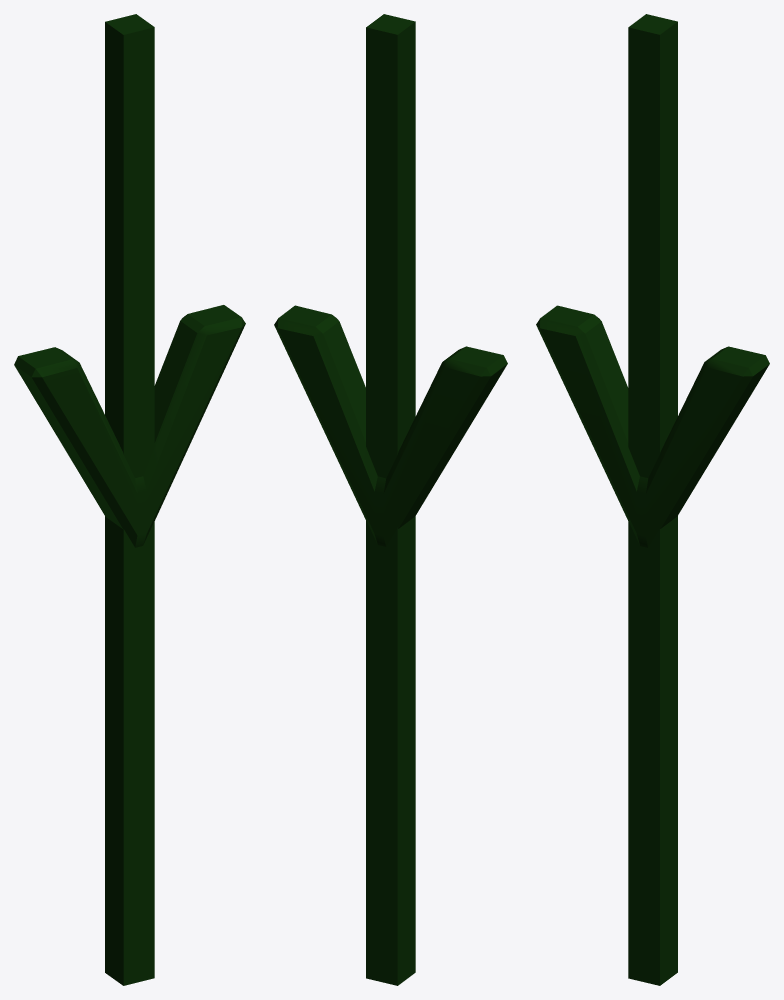
The model's file is Gate_Peice_Down.fbx.
3 renders of one model, left to right at view 1: azimuth 30°, elevation 25°; view 2: azimuth 150°, elevation 25°; view 3: azimuth 330°, elevation 25°, orthographic.
Visible parts, largest first — view 1: polySurface330; view 2: polySurface330; view 3: polySurface330.
Boxes of the visible parts, <box> form: polySurface330: <box>14,14,245,985</box>; polySurface330: <box>274,14,507,985</box>; polySurface330: <box>536,14,769,985</box>.
Bounding box in the file's own units: 216 × 910 × 43.93.
